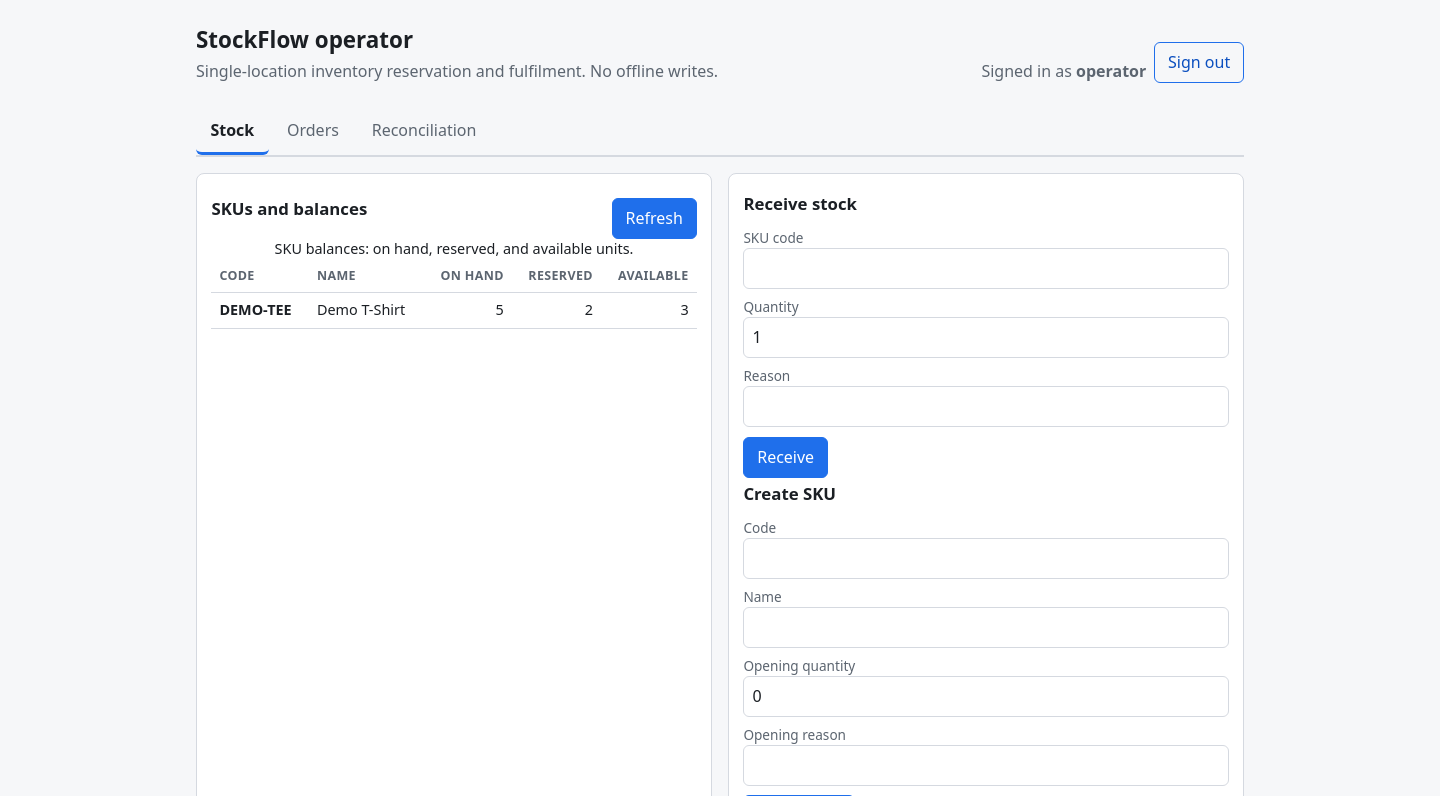
App › shows reconciliation findings for a selected run
Expected: the column heading "DEMO-TEE" is shown, [211, 293, 309, 329]
Click the tab "Reconciliation".
click(424, 132)  # box [357, 109, 491, 155]
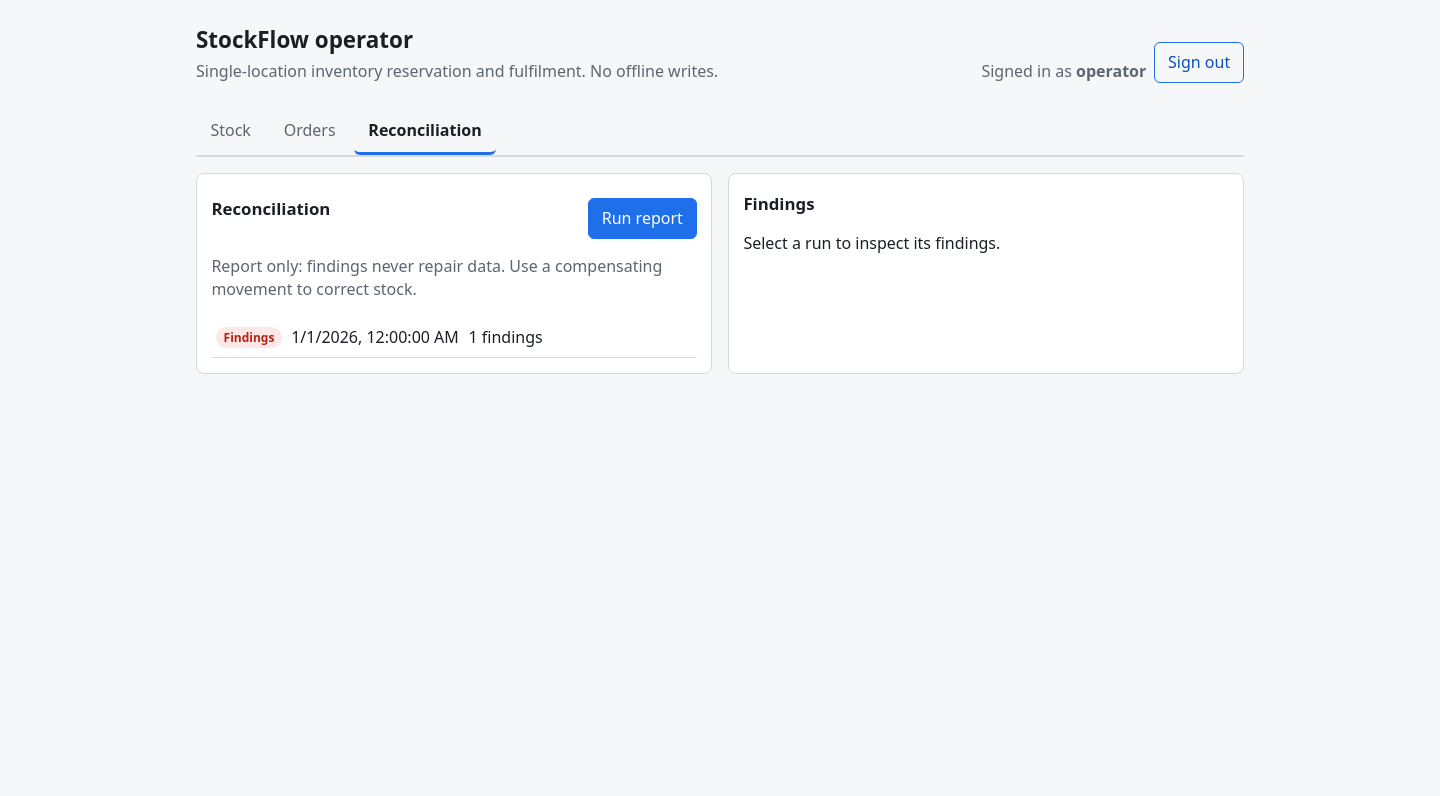
Click the button "findings 1/1/2026, 12:00:00 AM 1 findings".
click(454, 338)  # box [211, 317, 697, 358]
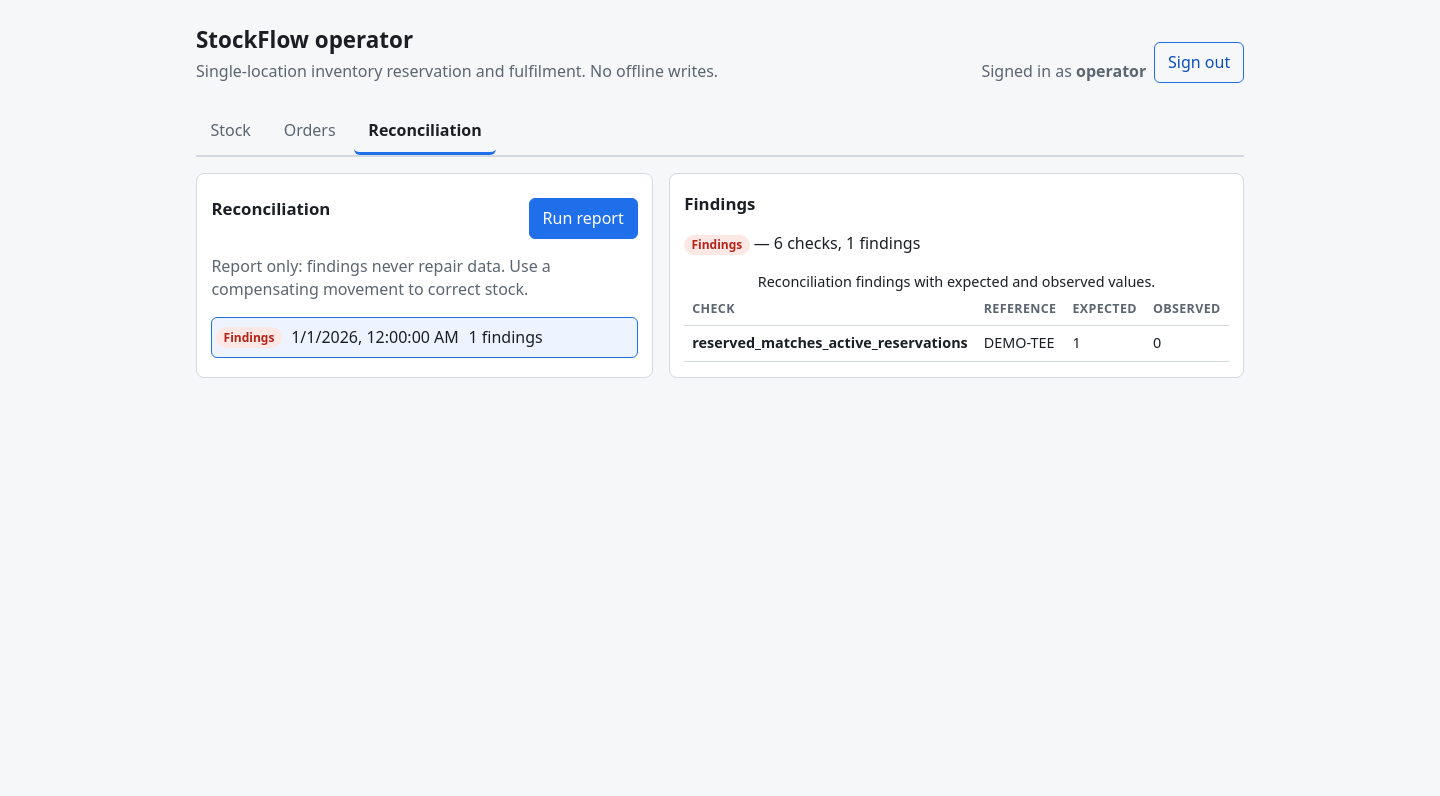
Expected: the column heading "reserved_matches_active_reservations" is shown, [684, 325, 976, 362]
